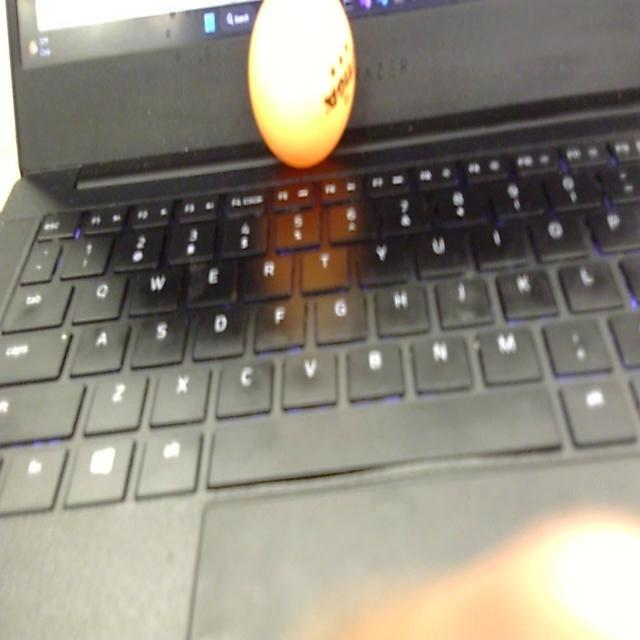ball: (245, 0, 358, 174)
